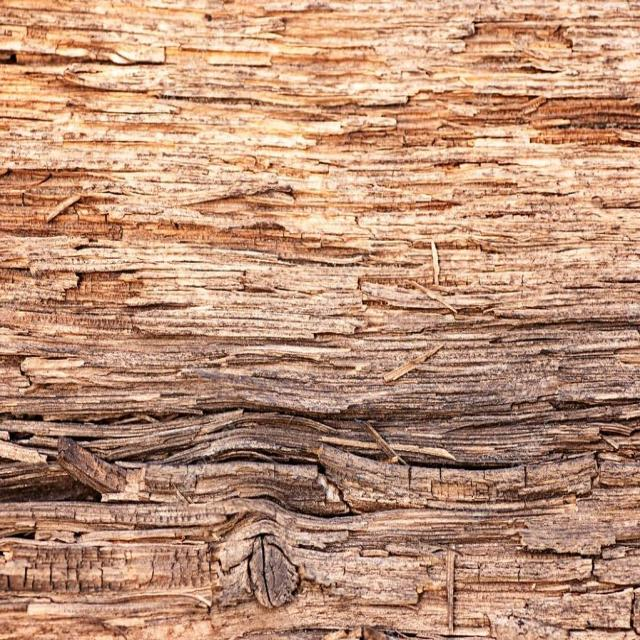have-wooden-eyes: (249, 537, 299, 608)
